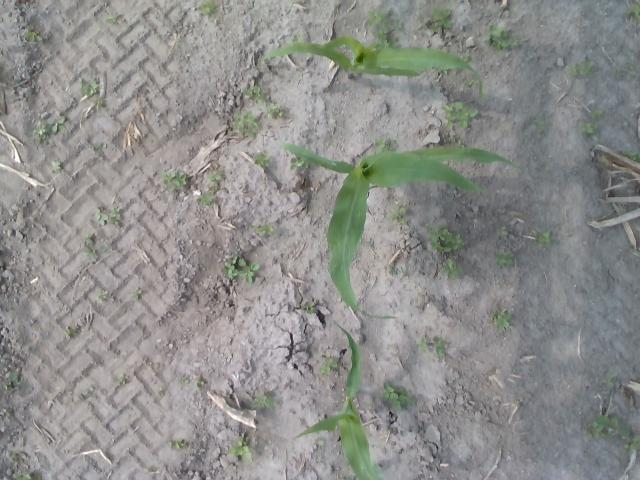Maize: (284, 142, 521, 319), (294, 320, 379, 480), (260, 38, 484, 98)
Weeds: (222, 256, 258, 283), (588, 415, 630, 438), (444, 102, 478, 130), (383, 382, 415, 408), (429, 228, 464, 251), (230, 112, 258, 137), (80, 234, 106, 257), (163, 170, 188, 192), (489, 28, 514, 48), (432, 8, 453, 31), (441, 258, 464, 276), (432, 336, 449, 359), (492, 310, 511, 329), (571, 61, 594, 76), (388, 204, 407, 222), (250, 395, 276, 408), (318, 358, 337, 374), (367, 9, 383, 26), (196, 1, 216, 14), (232, 438, 248, 454), (46, 116, 64, 130), (624, 436, 640, 451), (12, 470, 35, 480), (197, 192, 216, 204), (83, 78, 97, 94), (255, 152, 270, 166), (626, 2, 638, 19), (256, 225, 274, 236), (604, 372, 616, 388), (267, 105, 283, 117), (96, 209, 108, 224), (622, 150, 640, 160), (24, 31, 41, 41), (32, 122, 46, 134), (248, 84, 260, 98), (580, 122, 594, 134), (168, 440, 188, 448), (538, 232, 552, 243), (304, 302, 316, 314), (208, 172, 222, 182), (132, 286, 142, 300), (106, 12, 118, 23), (8, 373, 18, 386), (290, 160, 303, 170), (499, 257, 515, 265), (98, 290, 108, 302), (534, 120, 544, 132), (418, 338, 427, 351), (37, 135, 51, 143), (420, 15, 430, 26), (377, 28, 388, 38), (52, 159, 62, 170), (110, 208, 121, 218), (496, 226, 507, 235), (120, 374, 129, 384), (592, 110, 603, 118), (92, 142, 106, 148), (65, 328, 72, 340), (95, 98, 105, 106), (182, 376, 190, 384), (159, 387, 165, 396), (11, 454, 18, 461), (198, 380, 206, 386)
